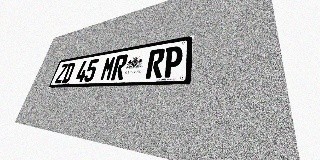4: (74, 60, 90, 82)
5: (83, 59, 99, 82)
D: (61, 62, 76, 83)
M: (99, 56, 117, 81)
P: (162, 45, 183, 78)
R: (145, 48, 166, 79), (111, 54, 129, 80)
Z: (54, 63, 69, 83)
